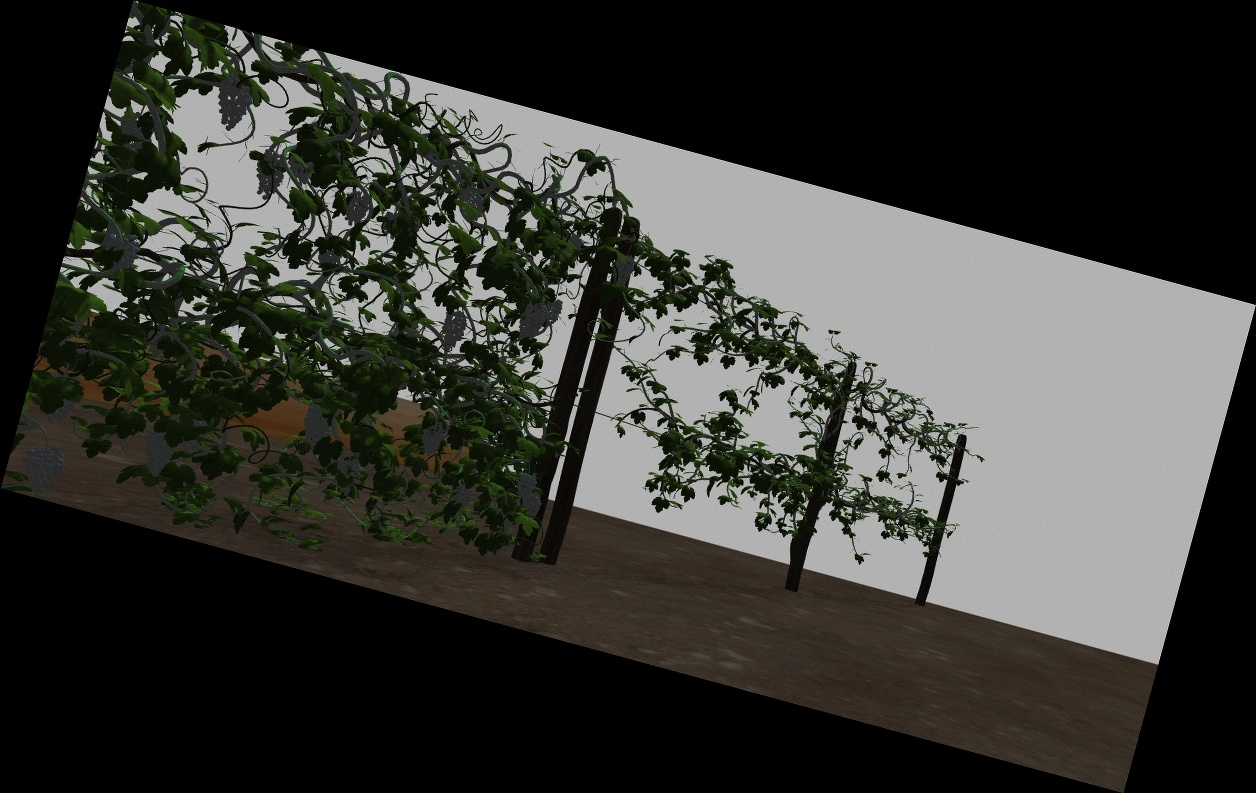grape: (19, 441, 62, 495), (216, 78, 251, 130), (142, 426, 174, 480), (102, 231, 141, 268), (256, 150, 285, 199), (302, 404, 332, 450), (334, 454, 359, 495), (440, 309, 466, 348), (342, 193, 371, 227), (518, 302, 543, 340), (420, 421, 443, 457), (458, 186, 486, 214), (611, 257, 635, 285), (515, 473, 537, 499), (520, 493, 542, 519), (542, 298, 563, 325), (454, 486, 474, 506)
